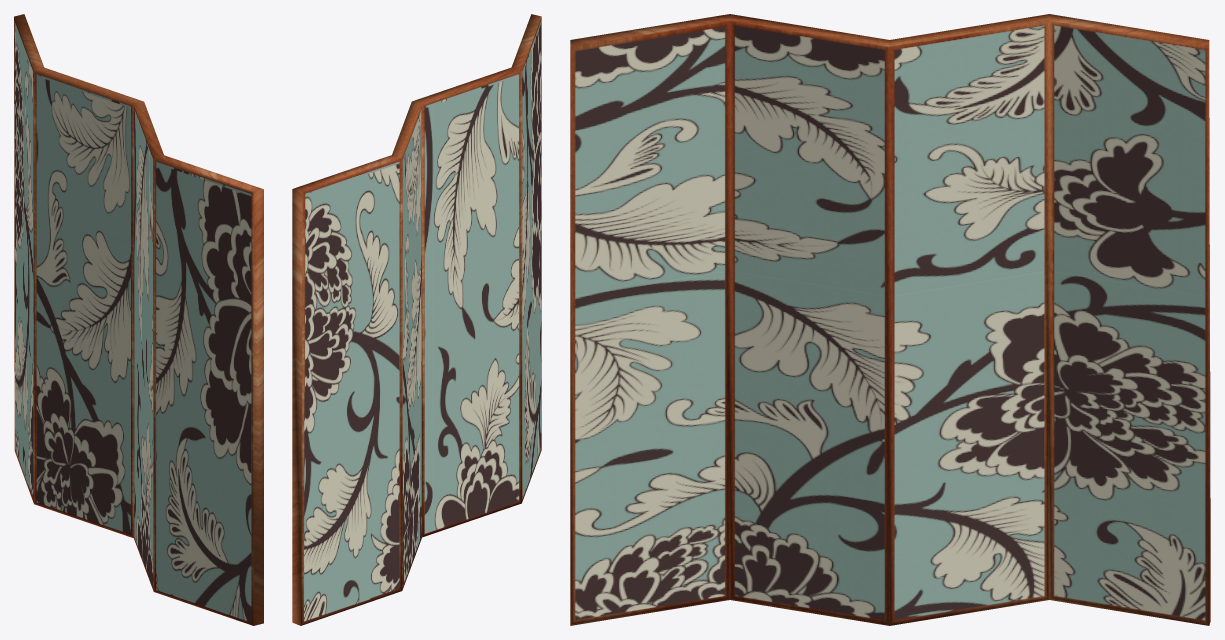
File: paravento.fbx
3 renders of one model, left to right at view 1: azimuth 30°, elevation 25°; view 2: azimuth 150°, elevation 25°; view 3: azimuth 270°, elevation 25°, orthographic. The views are drawn at different scales.
Parts seen in each view (by area): view 1: paravento; view 2: paravento; view 3: paravento.
Part boxes in pixels (bbox=[...]): paravento: bbox=[14, 14, 263, 625]; paravento: bbox=[292, 14, 541, 625]; paravento: bbox=[570, 14, 1210, 625].
Size of the model in its own units: 33.16 by 274 by 274.
